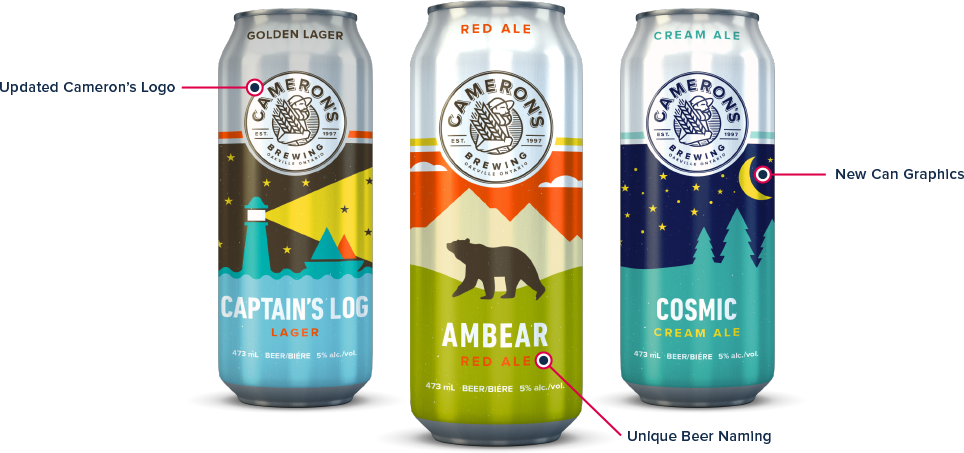beer can: (405, 5, 587, 453), (204, 7, 381, 414), (613, 8, 779, 410)
